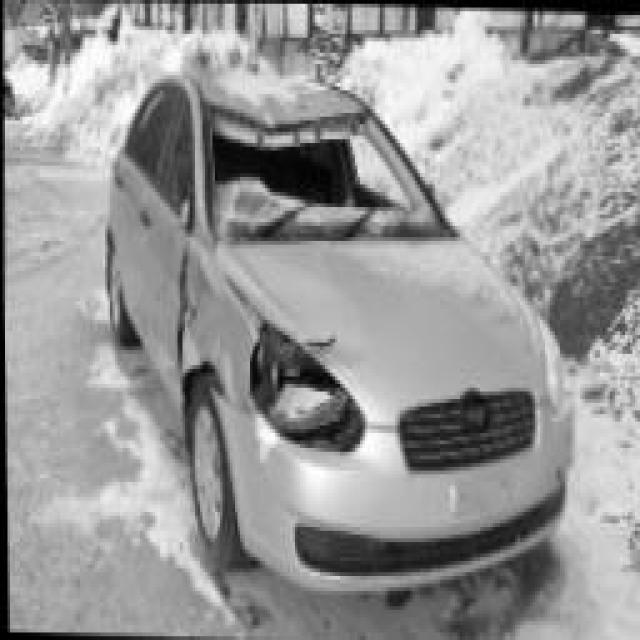Fender: (172, 227, 266, 412)
Light: (241, 328, 364, 455)
Windshield: (198, 102, 444, 236)
